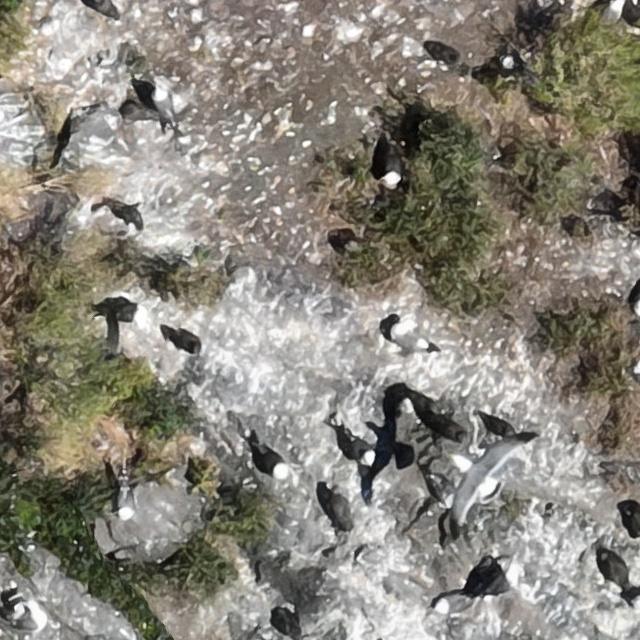F: (450, 431, 533, 531)
umineko: (9, 596, 50, 636), (480, 558, 522, 596), (105, 298, 149, 332), (390, 322, 436, 352), (341, 430, 377, 466), (255, 443, 290, 479), (594, 1, 626, 28), (436, 592, 467, 612), (385, 150, 403, 184), (119, 486, 135, 520), (154, 89, 170, 118)
